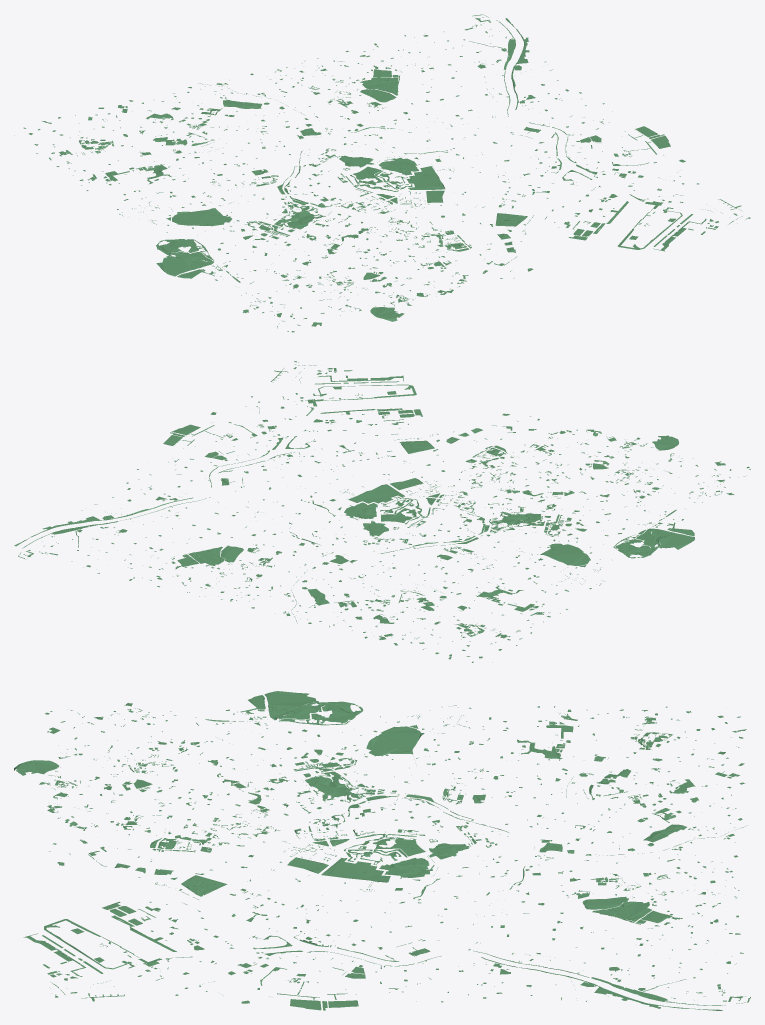
The model's file is green.glb.
3 views of the same model, one above another, from view 1: azimuth 30°, elevation 25°; view 2: azimuth 150°, elevation 25°; view 3: azimuth 270°, elevation 25° (orthographic). The views are drawn at different scales.
Visible parts, largest first — view 1: green; view 2: green; view 3: green.
Boxes of the visible parts, <box> form: green: <box>14,14,750,332</box>; green: <box>14,361,750,662</box>; green: <box>14,691,750,1010</box>.
Size of the model in its own units: 10861 by 72.92 by 10644.
